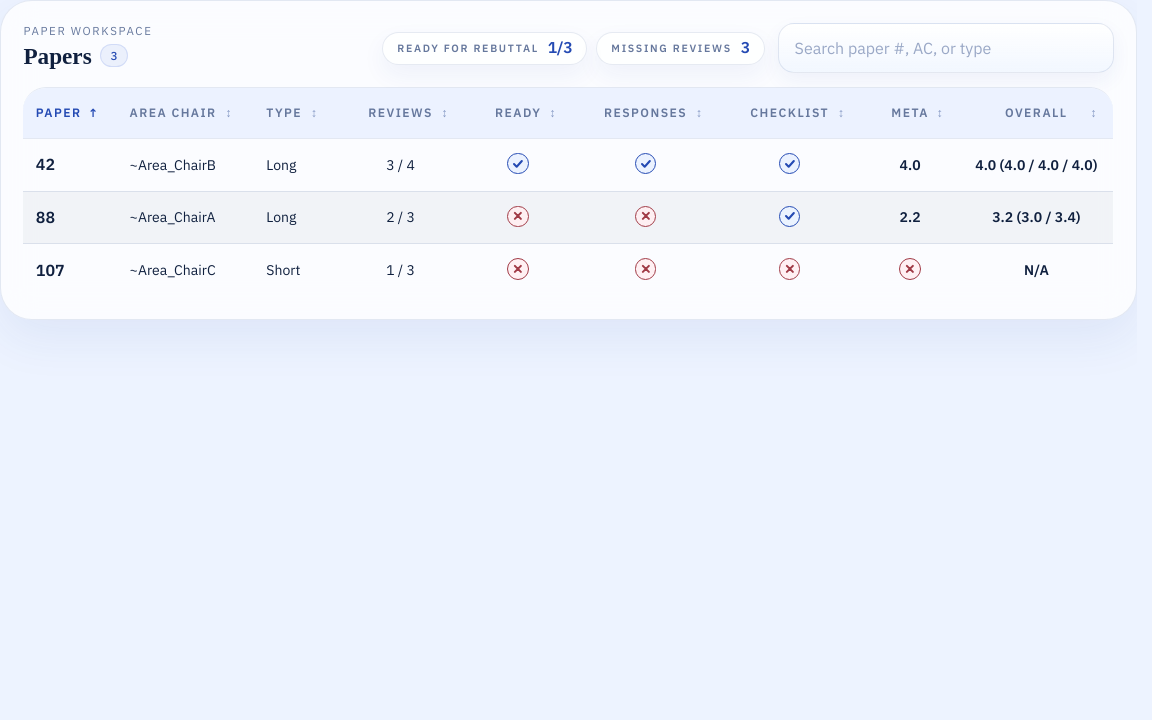
Test: PapersPanel › uses a simplified control bar and reveals the OpenReview action only in the expanded row
This screenshot has width=1152, height=720.
Expected: the link "Open in OpenReview" is not shown
Type "paper107" into the field named "search papers" at (946, 48), box [778,23,1114,73]
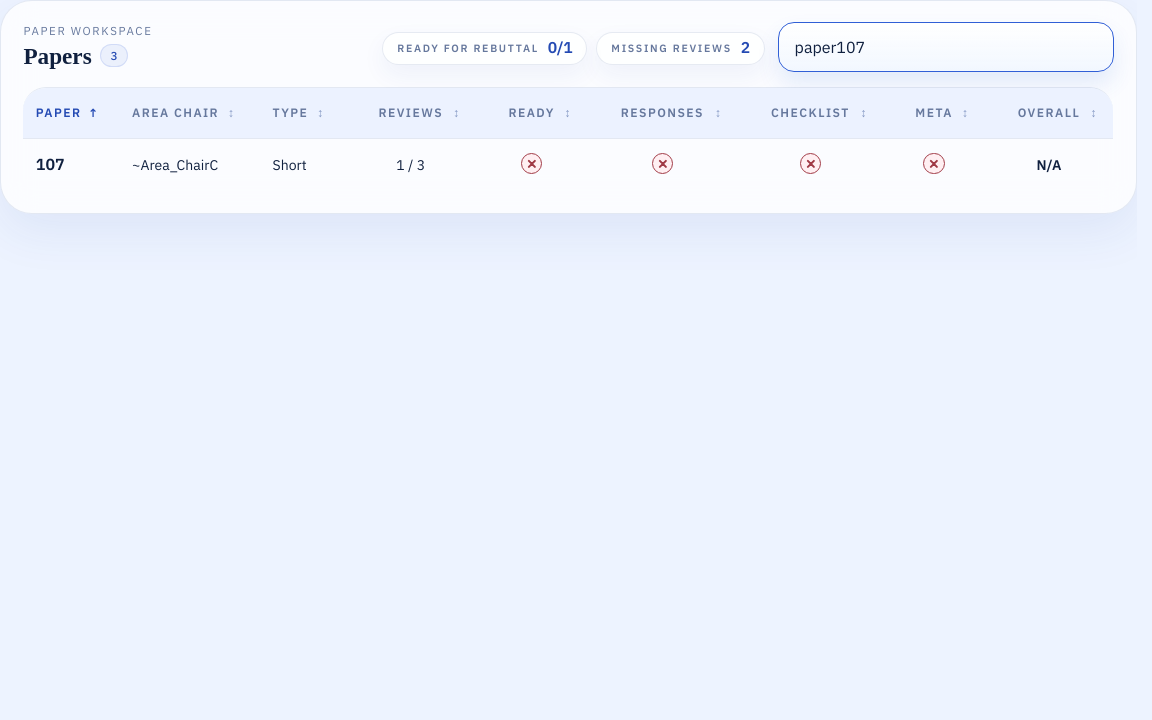
Result: the button "42" is gone
Click the button "107" at (72, 165), box [36,152,107,178]
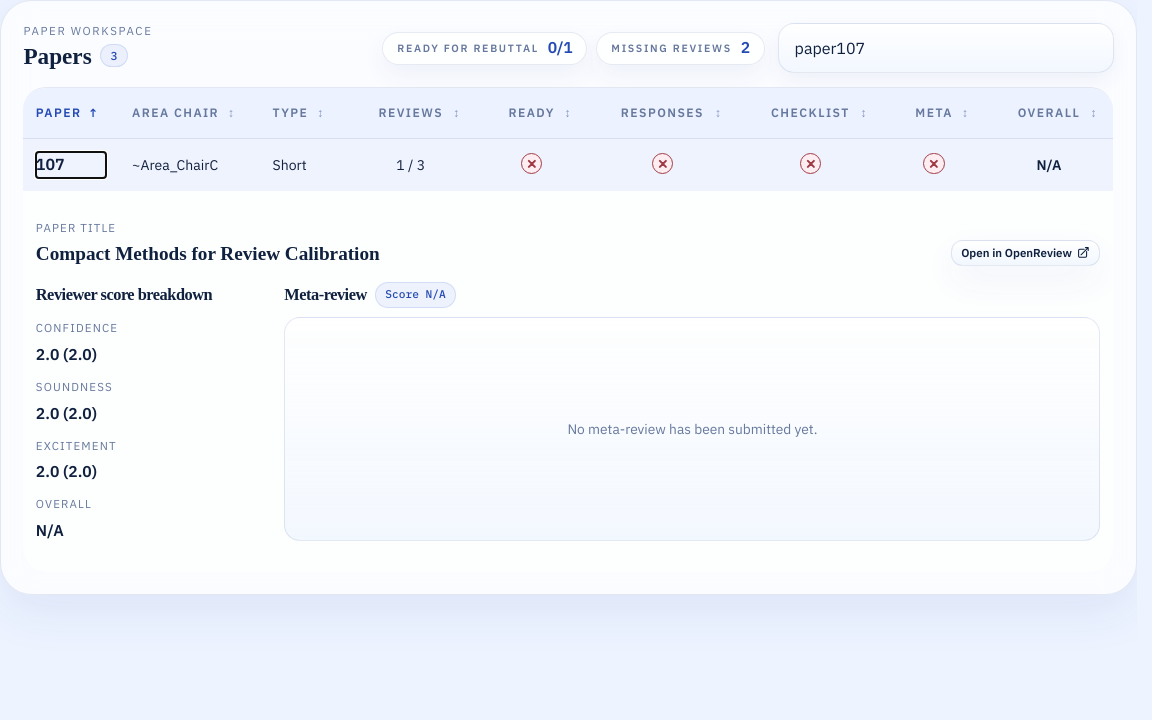
Result: the heading "Compact Methods for Review Calibration" is shown at [36,242,380,266]
Result: the heading "Reviewer score breakdown" is shown at [36,285,212,304]
Result: the field named "Meta-review for paper 107" reads "No meta-review has been submitted yet." at [568,420,818,438]
